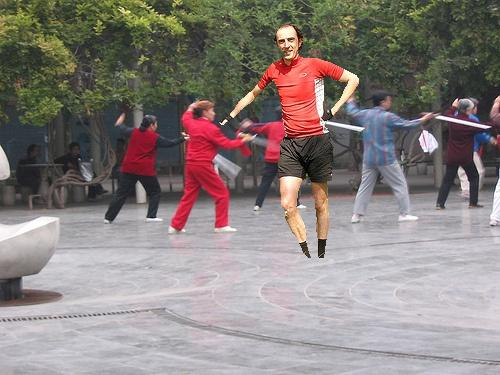tampered: (220, 25, 359, 258)
